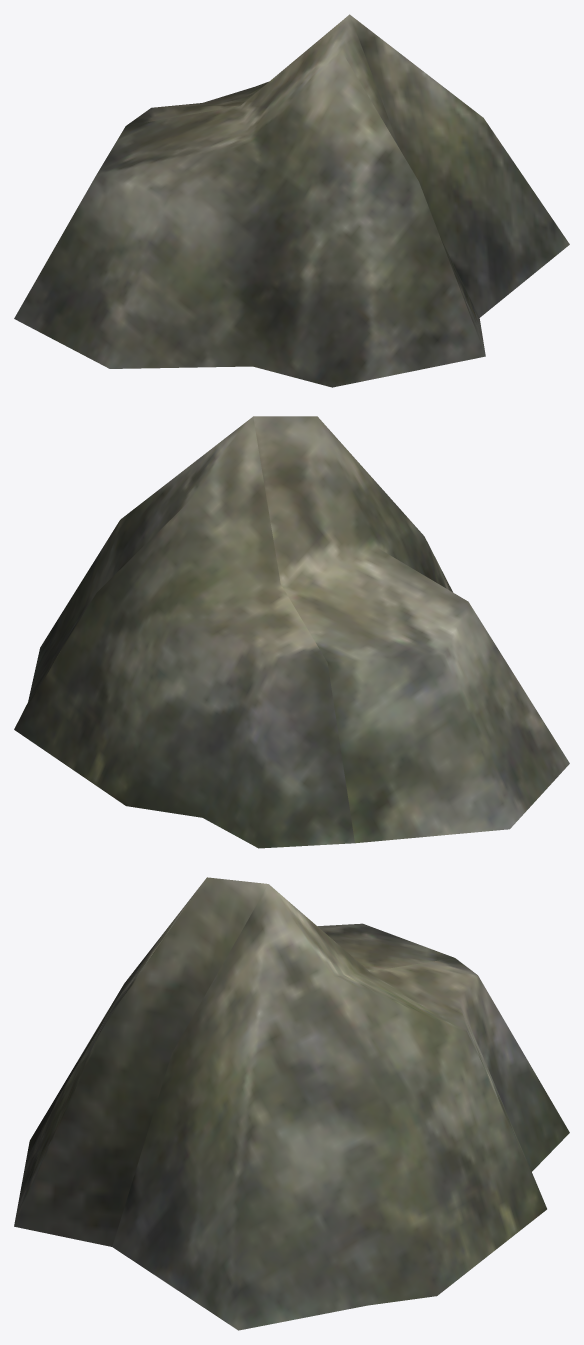
The model's file is yw_roc007.FBX.
The picture shows the model from 3 angles, top to bottom: view 1: azimuth 30°, elevation 25°; view 2: azimuth 150°, elevation 25°; view 3: azimuth 270°, elevation 25°; orthographic projection. The views are drawn at different scales.
Visible parts, largest first — view 1: yw_roc007; view 2: yw_roc007; view 3: yw_roc007.
Part boxes in pixels (bbox=[...]): yw_roc007: bbox=[14, 14, 569, 387]; yw_roc007: bbox=[14, 416, 569, 848]; yw_roc007: bbox=[14, 877, 569, 1330].
Bounding box in the file's own units: 4.61 × 2.43 × 3.76.
